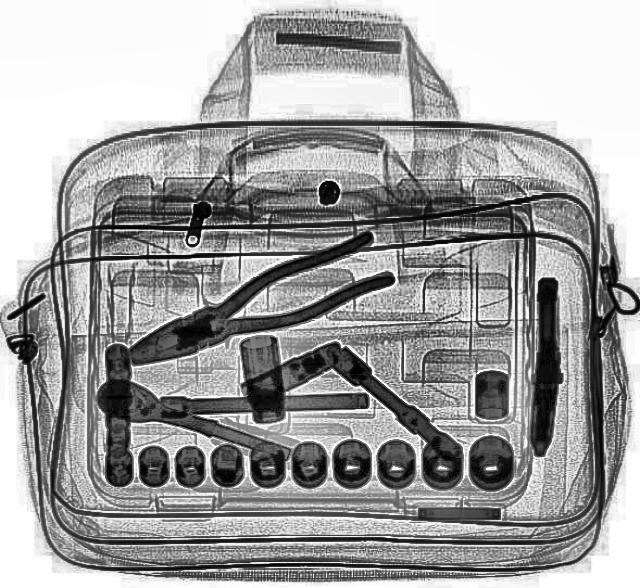Gun: (527, 276, 565, 456)
Pliers: (110, 229, 400, 385)
